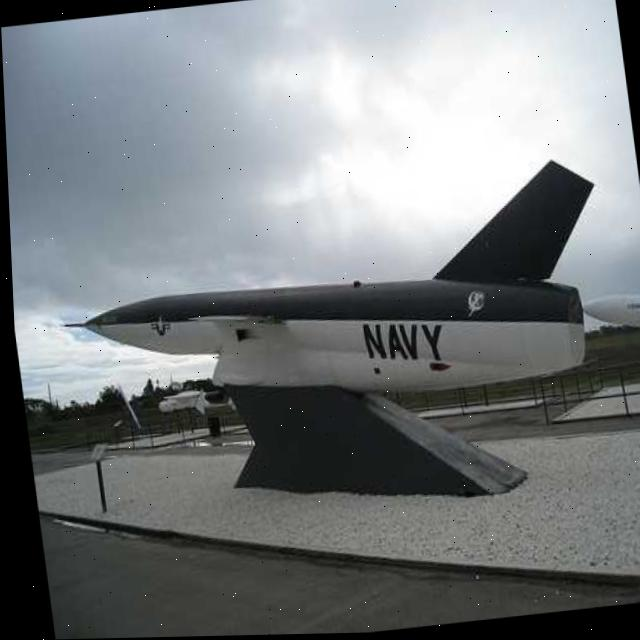missile: (45, 147, 603, 443)
